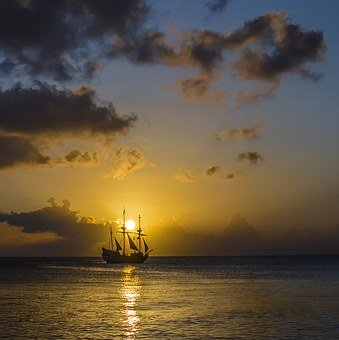sea: (7, 254, 339, 338)
sky: (3, 6, 338, 251)
